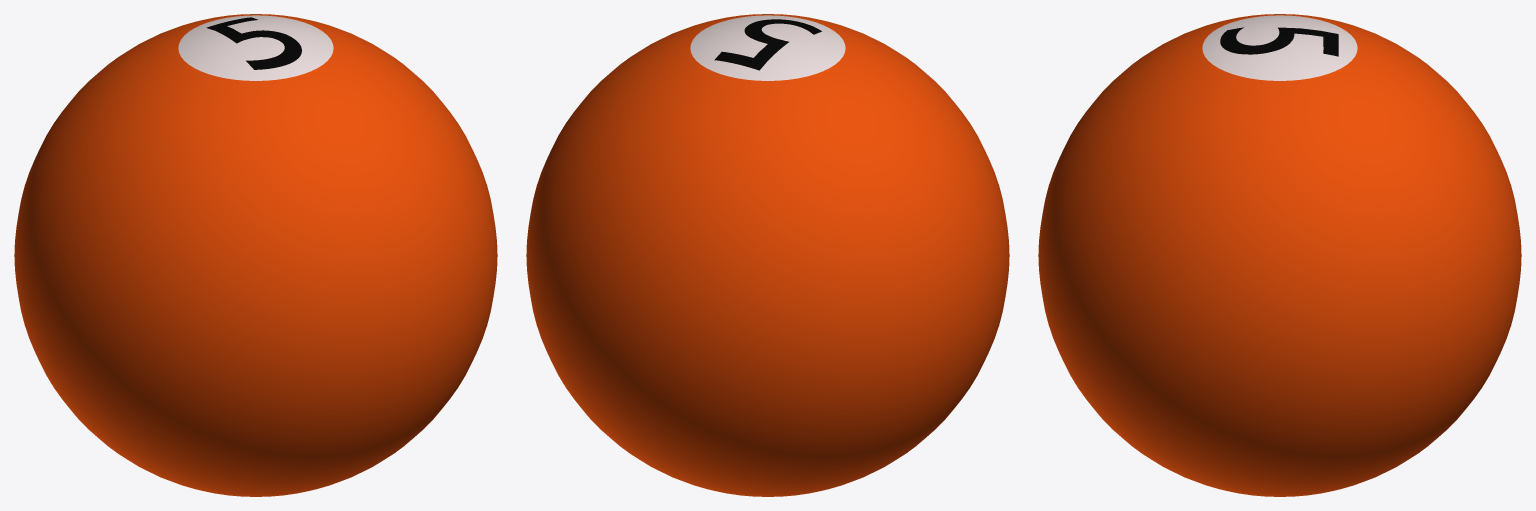
File: fiveBall.glb
3 views of the same model, side by side, from view 1: azimuth 30°, elevation 25°; view 2: azimuth 150°, elevation 25°; view 3: azimuth 270°, elevation 25° (orthographic).
Parts seen in each view (by area): view 1: Sphere; view 2: Sphere; view 3: Sphere.
Part boxes in pixels (left/top/right/bottom): Sphere: left=14, top=14, right=497, bottom=496; Sphere: left=526, top=14, right=1009, bottom=496; Sphere: left=1038, top=14, right=1521, bottom=496.
Size of the model in its own units: 0.127 by 0.127 by 0.127.
